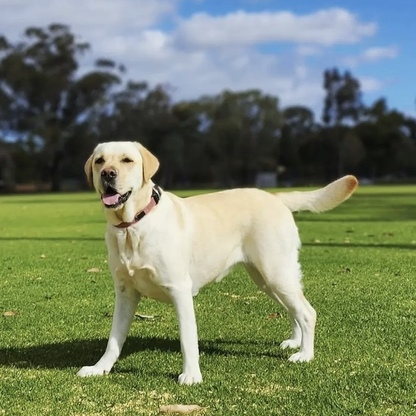labrado: (69, 132, 359, 389)
